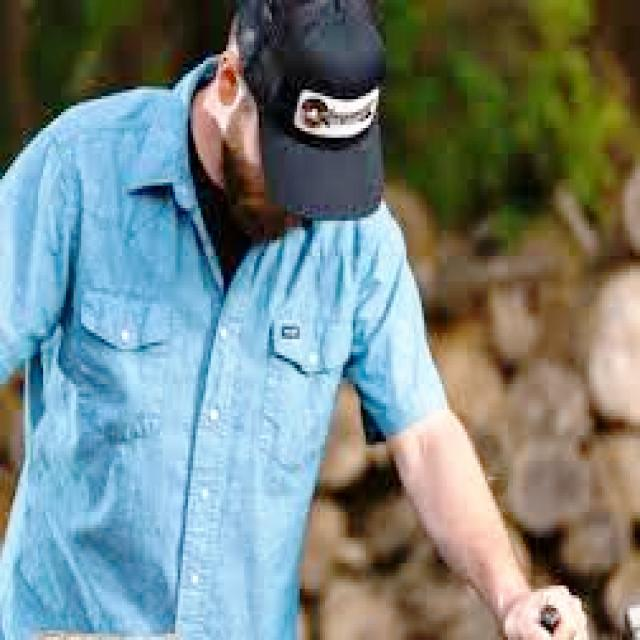TOPI: (231, 0, 391, 224)
